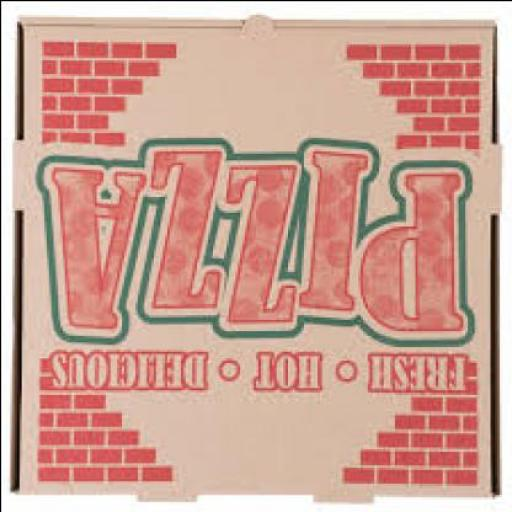cardboard: (13, 18, 506, 510)
